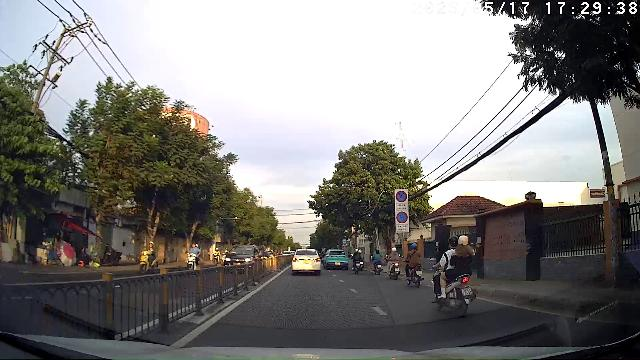130-cam-dung-va-do-xe: (397, 190, 408, 202)
131a-cam-do-xe: (397, 212, 408, 222)
